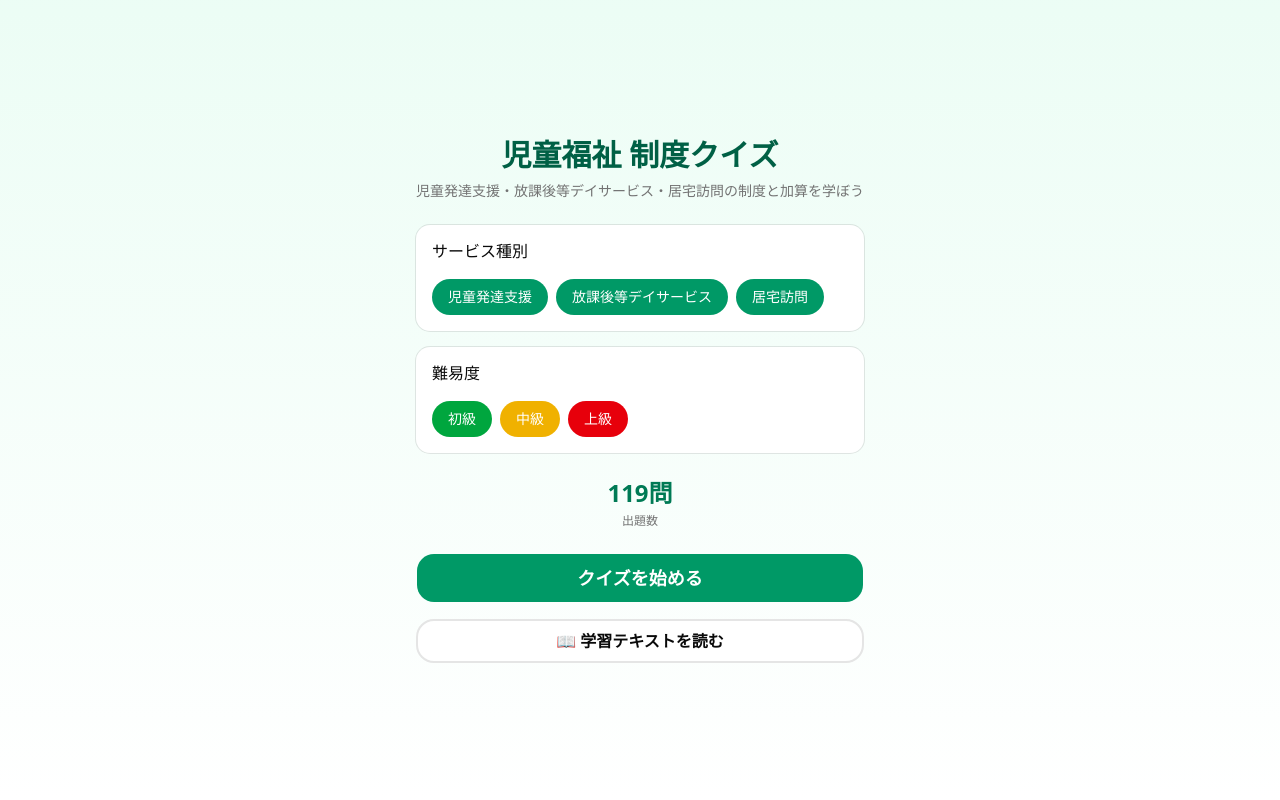
StartScreen › disables start button when no difficulty selected
Click the button "初級" at point(462, 419), box [432,401,492,437]
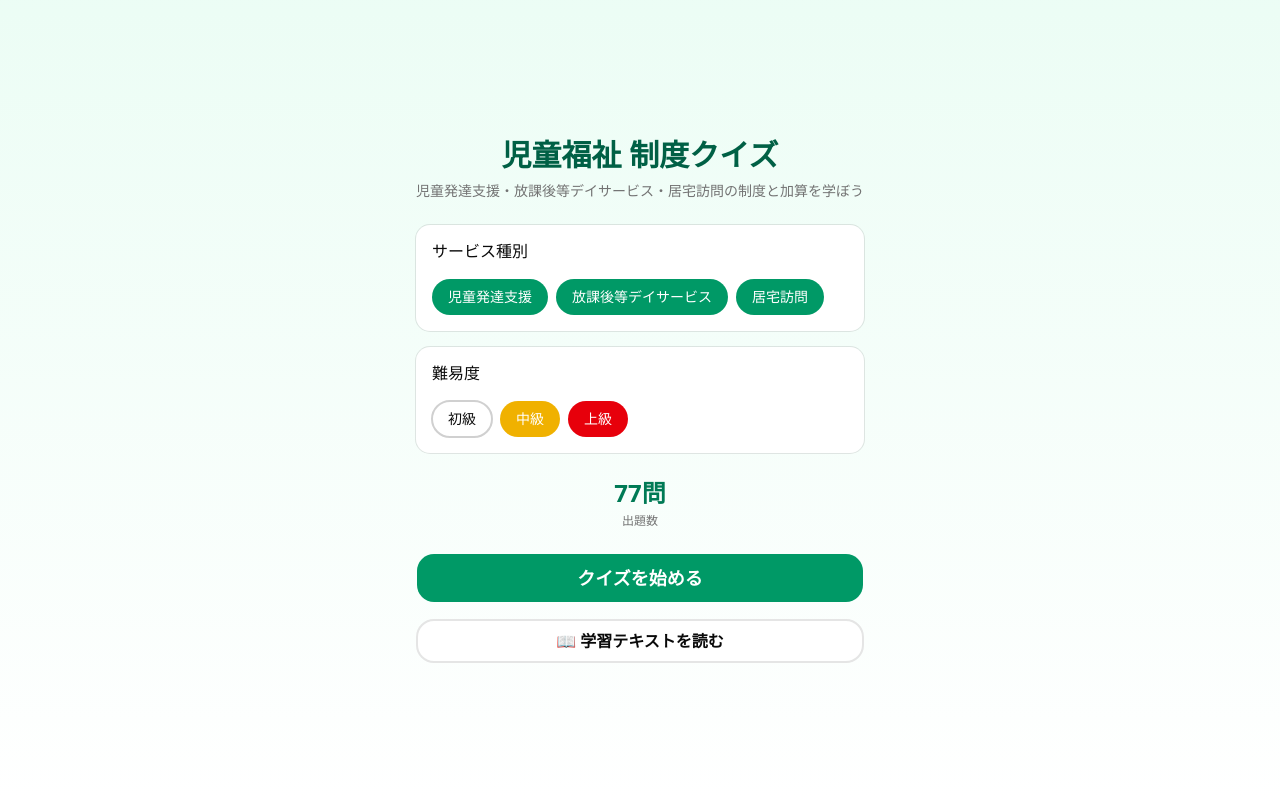
Click the button "中級" at point(530, 419), box [500,401,560,437]
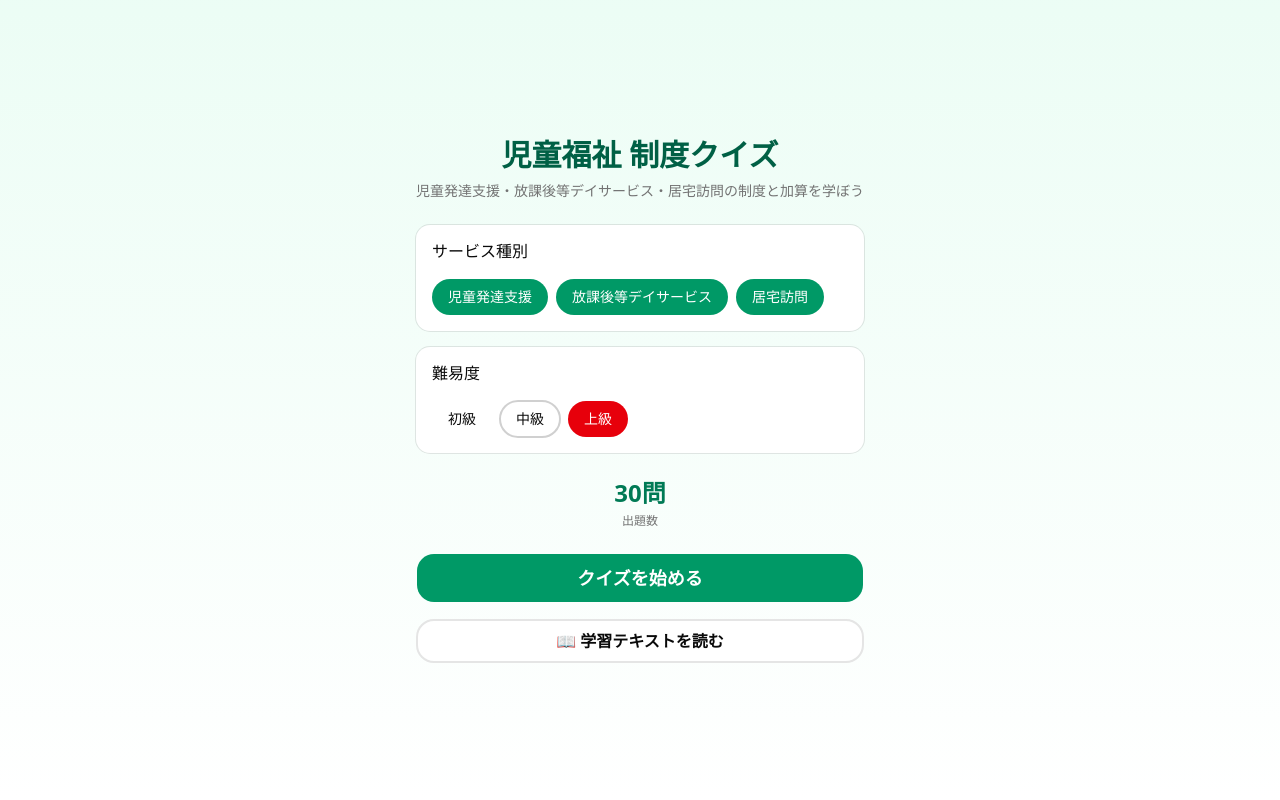
Click the button "上級" at point(598, 419), box [568,401,628,437]
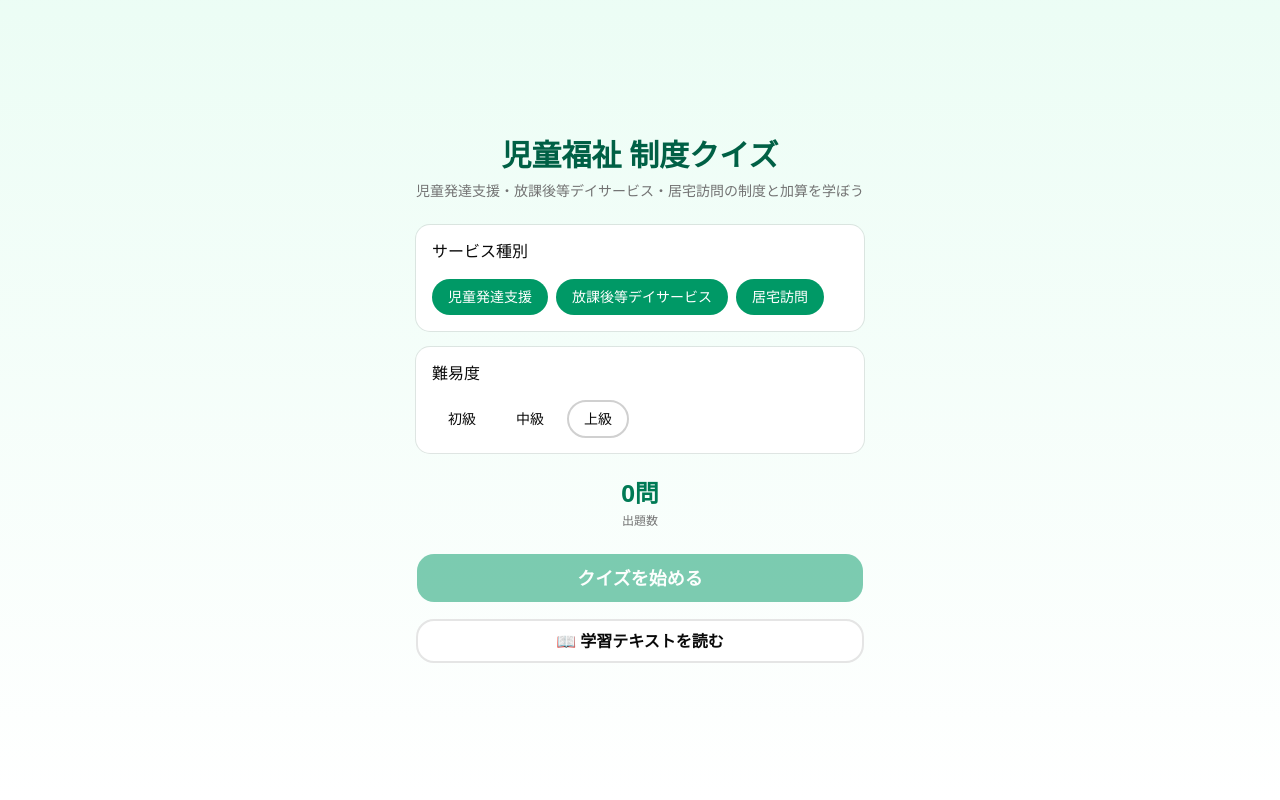
Now the button "クイズを始める" is disabled, box [416,553,864,603]
